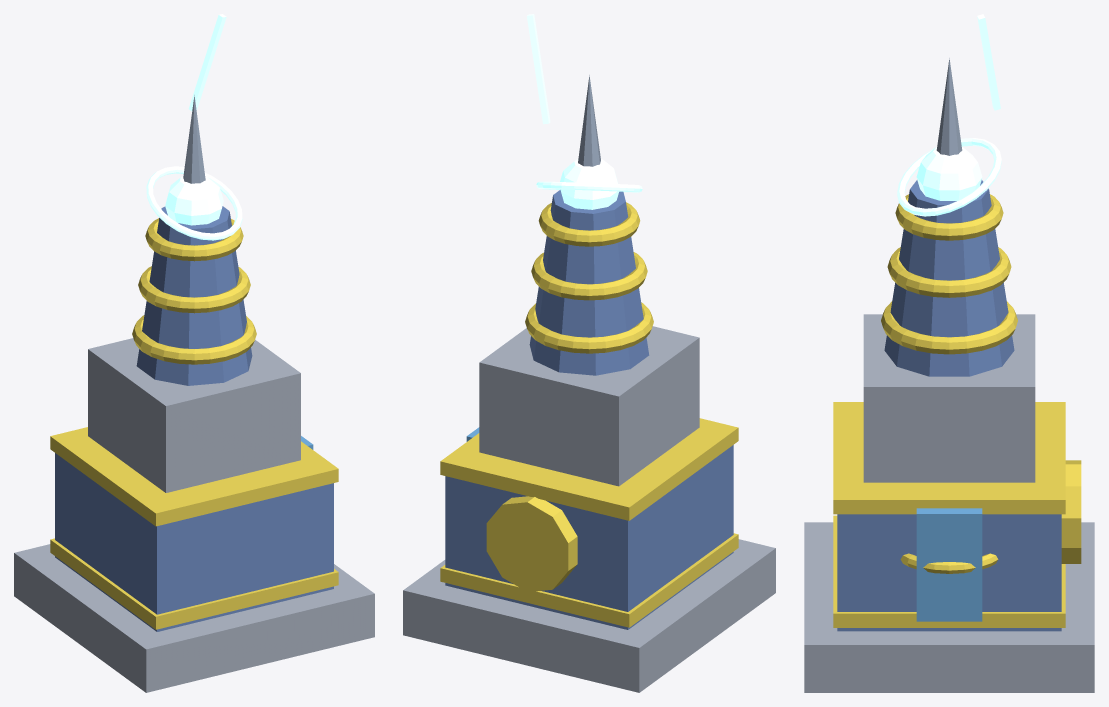
The model's file is tesla.glb.
The picture shows the model from 3 angles, left to right: view 1: azimuth 30°, elevation 25°; view 2: azimuth 150°, elevation 25°; view 3: azimuth 270°, elevation 25°; orthographic projection. The views are drawn at different scales.
Visible parts, largest first — view 1: tesla; view 2: tesla; view 3: tesla.
Boxes of the visible parts, x1,y1,x2,y2 form: tesla: (14, 14, 374, 692); tesla: (403, 14, 775, 692); tesla: (804, 14, 1094, 692).
Size of the model in its own units: 2.2 by 5.34 by 2.2.
